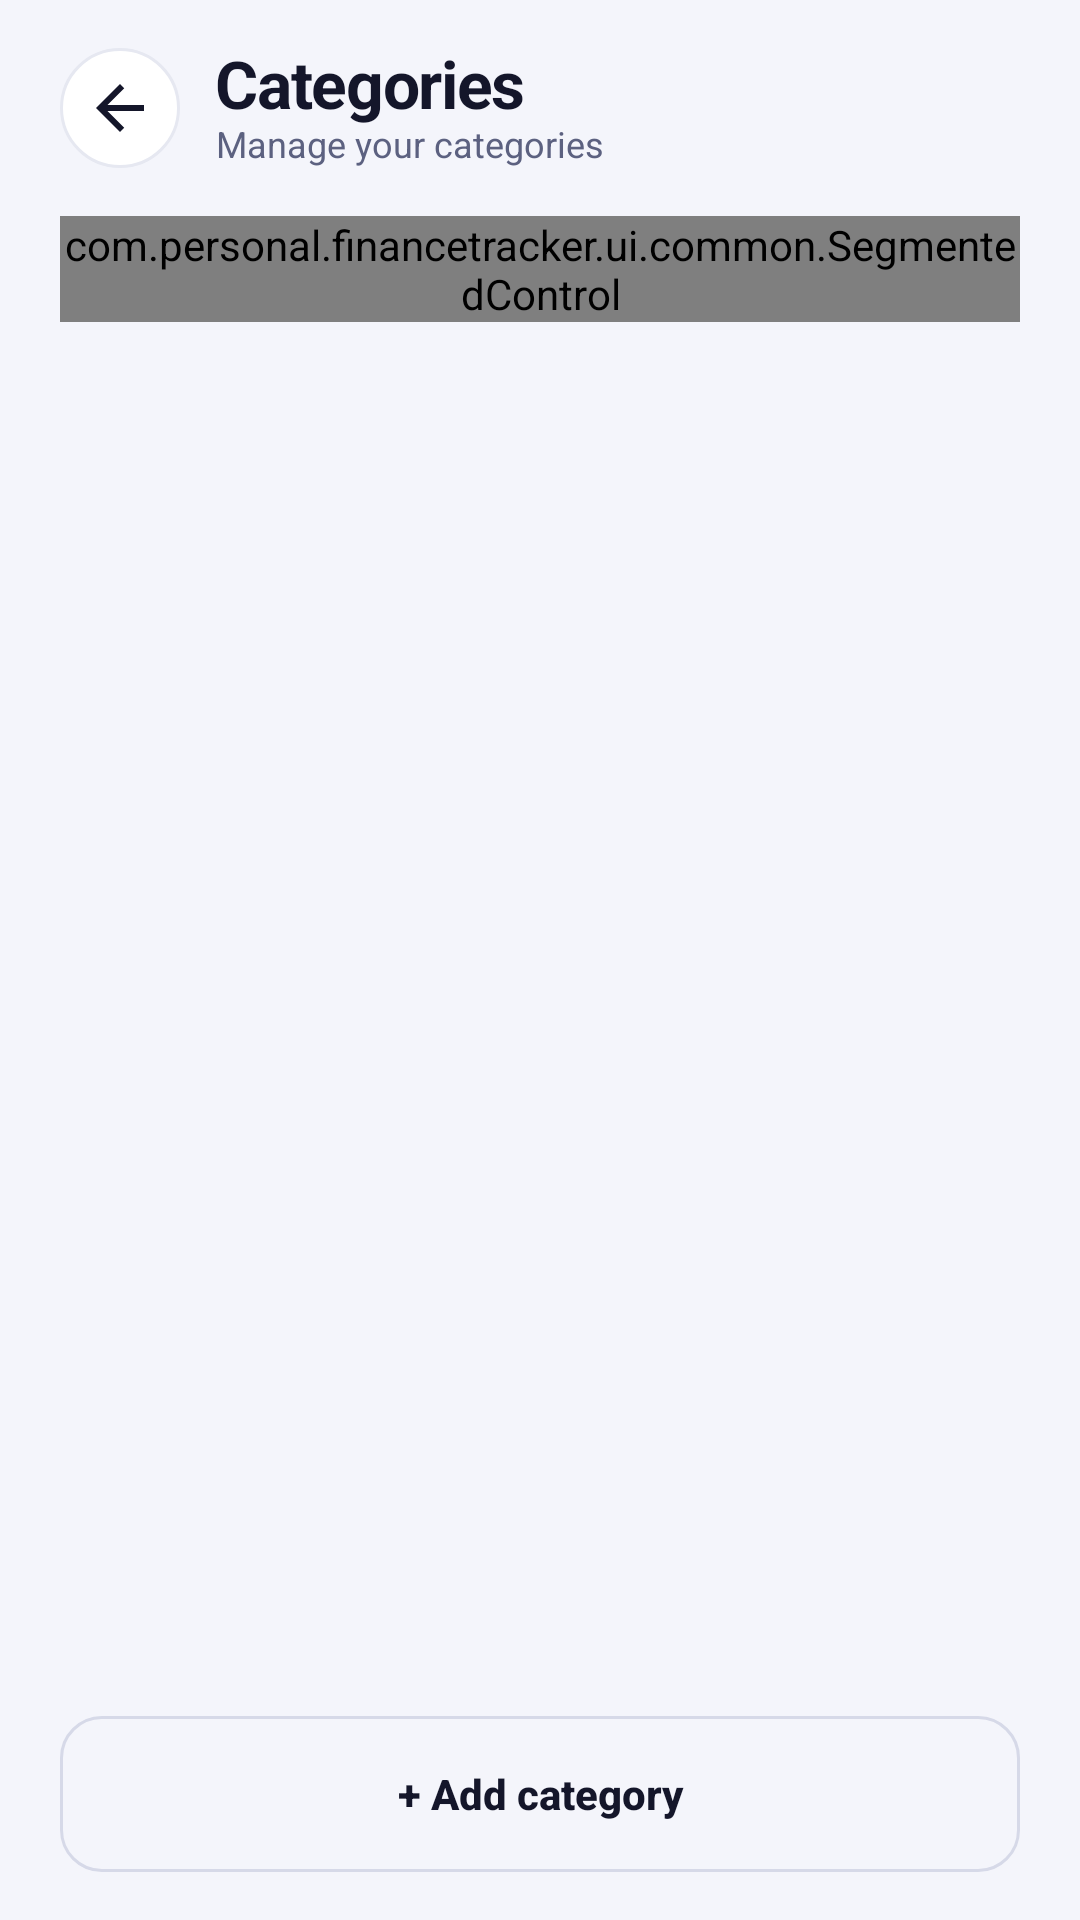

Where to tap for icons on this 1080x1920 app screen, as (x,y):
Back: (120,108)
